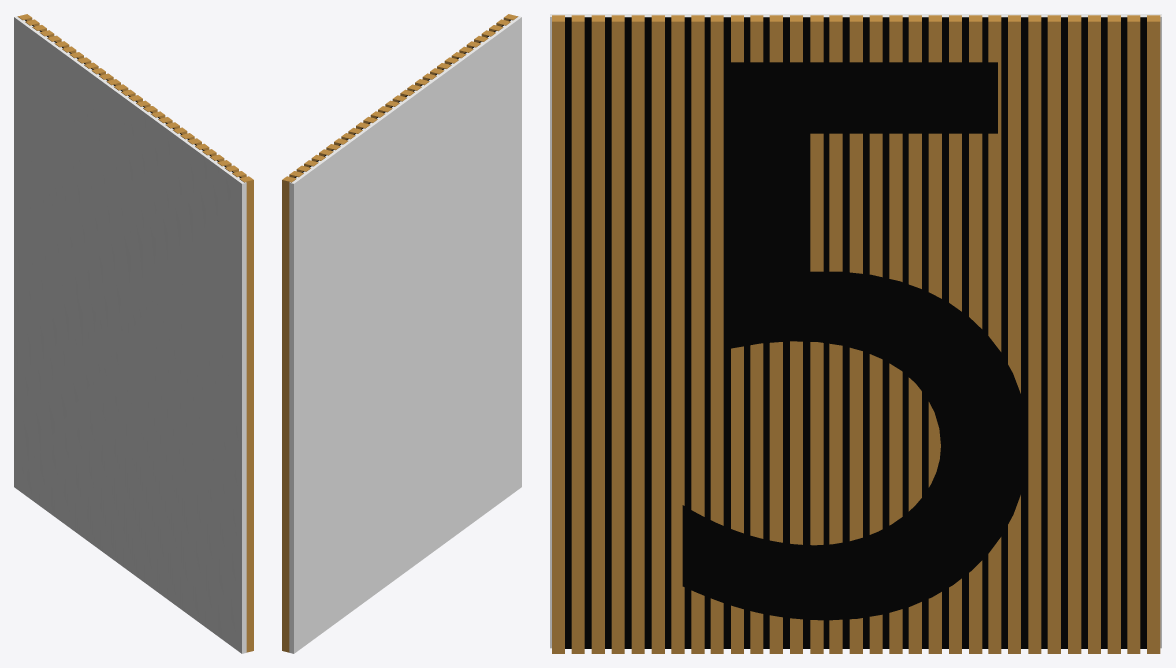
File: 5 sal.fbx
3 views of the same model, side by side, from view 1: azimuth 30°, elevation 25°; view 2: azimuth 150°, elevation 25°; view 3: azimuth 270°, elevation 25° (orthographic). The views are drawn at different scales.
Parts seen in each view (by area): view 1: Cube.002, Cube.003; view 2: Cube.002, Cube.032; view 3: Cube, Text, Cube.004, Cube.005, Cube.006, Cube.007, Cube.008, Cube.026, Cube.027, Cube.028, Cube.030, Cube.031 (+22 smaller).
Boxes of the visible parts, x1=… form: Cube.002: x1=14, y1=16, x2=246, y2=653; Cube.003: x1=239, y1=176, x2=253, y2=652; Cube.002: x1=289, y1=16, x2=521, y2=653; Cube.032: x1=282, y1=176, x2=296, y2=652; Cube: x1=565, y1=17, x2=1146, y2=648; Text: x1=682, y1=62, x2=1028, y2=620; Cube.004: x1=571, y1=15, x2=584, y2=653; Cube.005: x1=591, y1=15, x2=604, y2=653; Cube.006: x1=611, y1=15, x2=624, y2=653; Cube.007: x1=631, y1=15, x2=644, y2=653; Cube.008: x1=651, y1=15, x2=664, y2=653; Cube.026: x1=1028, y1=15, x2=1041, y2=653; Cube.027: x1=1047, y1=15, x2=1060, y2=653; Cube.028: x1=1068, y1=15, x2=1081, y2=653; Cube.030: x1=1107, y1=15, x2=1120, y2=653; Cube.031: x1=1127, y1=15, x2=1140, y2=653.
Size of the model in its own units: 27.92 by 940 by 824.
